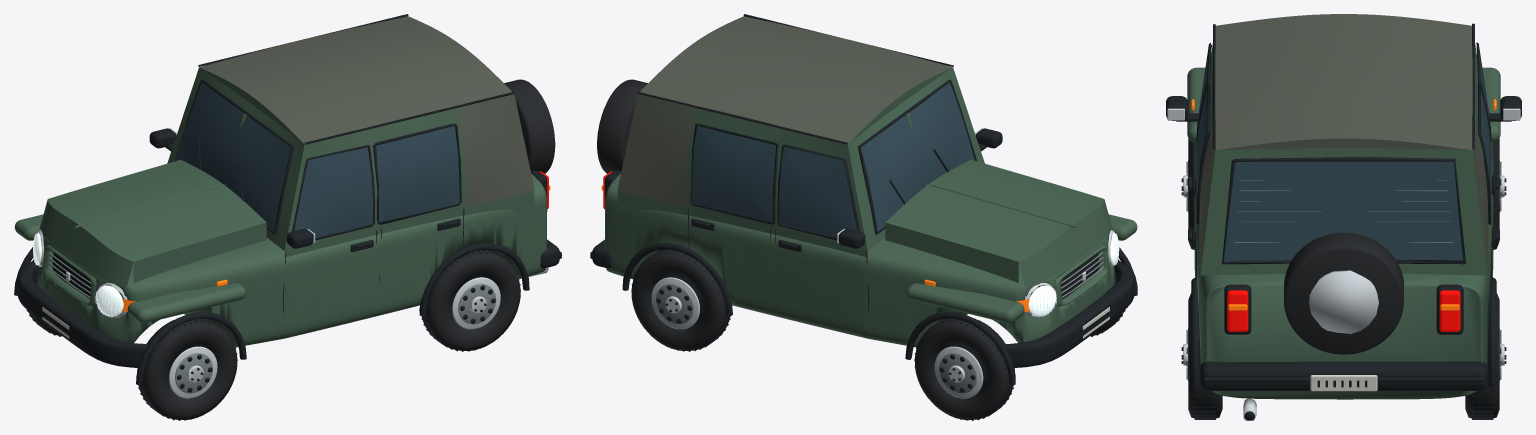
The model's file is uaz.glb.
The picture shows the model from 3 angles, left to right: view 1: azimuth 30°, elevation 25°; view 2: azimuth 150°, elevation 25°; view 3: azimuth 270°, elevation 25°; orthographic projection. The views are drawn at different scales.
Parts seen in each view (by area): view 1: Body_Paint_uaz, Body_Canvas roof, Body_Curved smoked glass.011, Body_Black trim.011, Wheel_FR_Tyre.011, Wheel_RR_Tyre.011, StockBumpers_Black trim.011, StockFenders_Black trim.011, Body_Tyre.011, Wheel_RR_Machined aluminium.011, Wheel_FR_Machined aluminium.011, Body_Prismatic headlight glass.011 (+4 smaller); view 2: Body_Paint_uaz, Body_Canvas roof, Body_Curved smoked glass.011, Body_Black trim.011, Wheel_FL_Tyre.011, Wheel_RL_Tyre.011, StockBumpers_Black trim.011, StockFenders_Black trim.011, Body_Tyre.011, Wheel_FL_Machined aluminium.011, Wheel_RL_Machined aluminium.011, Body_Prismatic headlight glass.011 (+4 smaller); view 3: Body_Canvas roof, Body_Paint_uaz, Body_Curved smoked glass.011, Body_Tyre.011, StockBumpers_Black trim.011, Body_Black trim.011, Body_Machined aluminium.011, StockFenders_Black trim.011, Body_Red lens.011, Wheel_RR_Tyre.011, Wheel_RL_Tyre.011, Body_Numberplate.011 (+6 smaller).
Part boxes in pixels (x1,y1,x2,y2): Body_Paint_uaz: [14, 67, 546, 347]; Body_Canvas roof: [199, 16, 534, 206]; Body_Curved smoked glass.011: [177, 82, 459, 237]; Body_Black trim.011: [45, 14, 548, 333]; Wheel_FR_Tyre.011: [137, 319, 237, 419]; Wheel_RR_Tyre.011: [421, 250, 520, 350]; StockBumpers_Black trim.011: [17, 239, 561, 367]; StockFenders_Black trim.011: [14, 243, 529, 385]; Body_Tyre.011: [504, 79, 555, 173]; Wheel_RR_Machined aluminium.011: [452, 277, 500, 329]; Wheel_FR_Machined aluminium.011: [169, 346, 217, 398]; Body_Prismatic headlight glass.011: [33, 232, 123, 316]; Body_Paint_uaz: [605, 67, 1137, 347]; Body_Canvas roof: [617, 16, 952, 206]; Body_Curved smoked glass.011: [692, 82, 974, 237]; Body_Black trim.011: [605, 14, 1107, 332]; Wheel_FL_Tyre.011: [914, 319, 1014, 420]; Wheel_RL_Tyre.011: [631, 250, 730, 350]; StockBumpers_Black trim.011: [590, 239, 1134, 367]; StockFenders_Black trim.011: [622, 243, 1137, 384]; Body_Tyre.011: [597, 79, 647, 173]; Wheel_FL_Machined aluminium.011: [934, 346, 983, 398]; Wheel_RL_Machined aluminium.011: [651, 277, 699, 329]; Body_Prismatic headlight glass.011: [1028, 232, 1119, 316]; Body_Canvas roof: [1199, 14, 1488, 275]; Body_Paint_uaz: [1187, 14, 1500, 399]; Body_Curved smoked glass.011: [1196, 55, 1491, 262]; Body_Tyre.011: [1284, 232, 1403, 354]; StockBumpers_Black trim.011: [1200, 361, 1487, 390]; Body_Black trim.011: [1166, 23, 1521, 420]; Body_Machined aluminium.011: [1167, 108, 1520, 420]; StockFenders_Black trim.011: [1191, 141, 1496, 387]; Body_Red lens.011: [1227, 290, 1460, 331]; Wheel_RR_Tyre.011: [1188, 293, 1222, 418]; Wheel_RL_Tyre.011: [1465, 293, 1499, 418]; Body_Numberplate.011: [1310, 375, 1377, 391].
Size of the model in its own units: 4.03 by 2.02 by 2.13.
